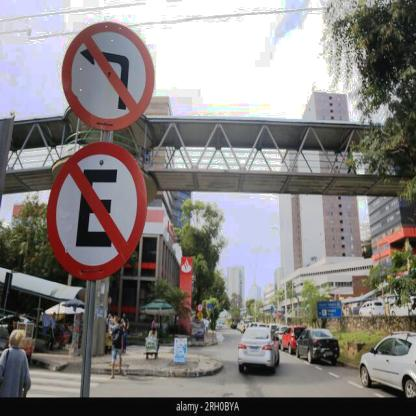No left turn: (61, 18, 156, 134)
